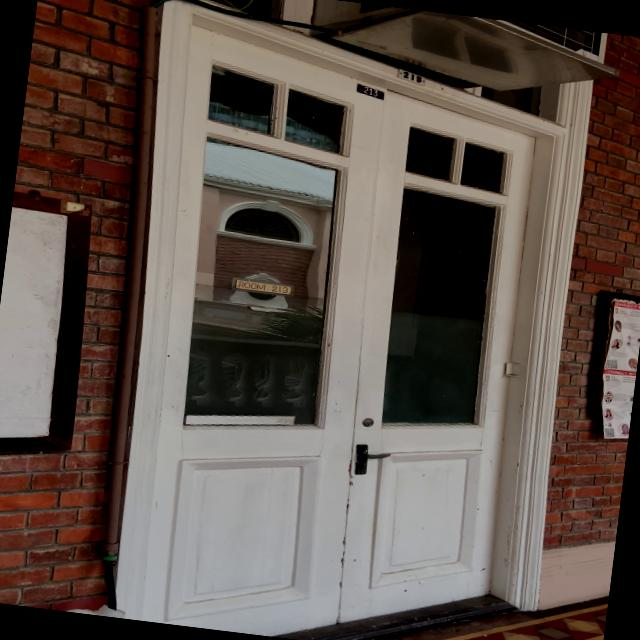room213: (352, 81, 387, 101)
room213Window: (220, 272, 298, 298)
